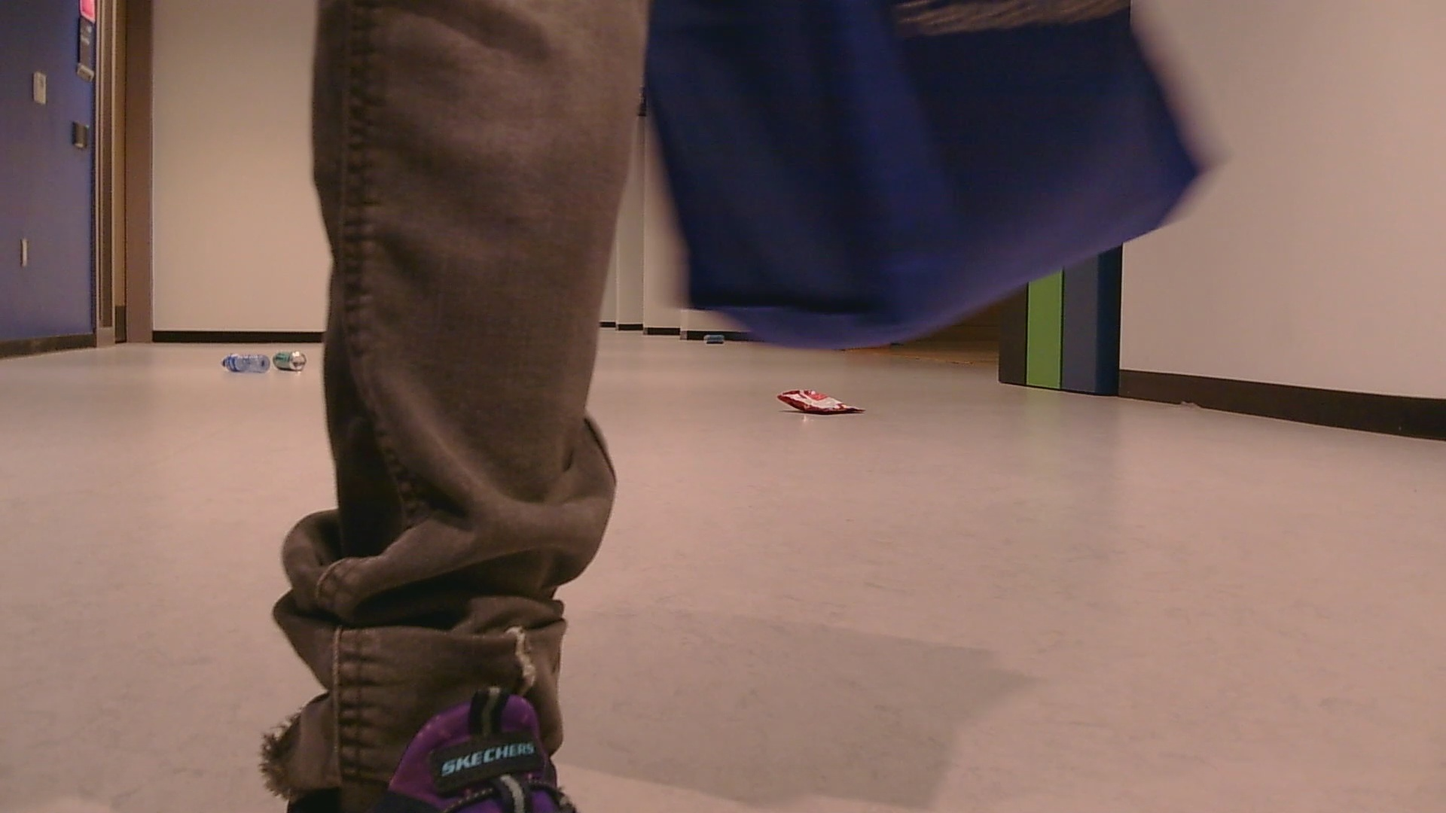carton: (755, 373, 874, 433), (211, 337, 279, 388), (273, 342, 314, 387), (705, 328, 730, 350)
